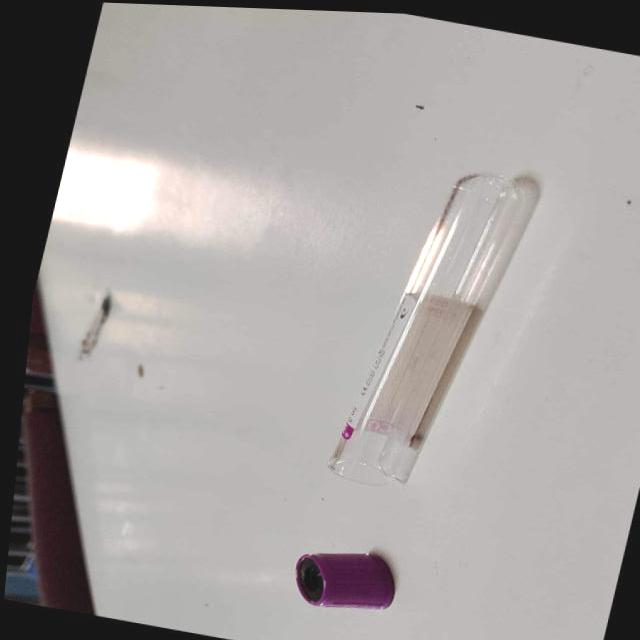General: (293, 550, 396, 612)
Sharps: (325, 172, 541, 487)
